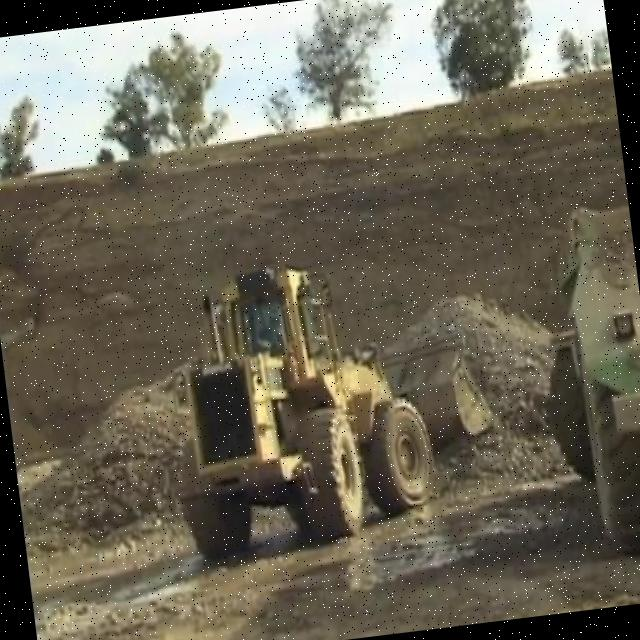Dump Truck: (522, 201, 640, 561)
Loader: (145, 238, 505, 566)
